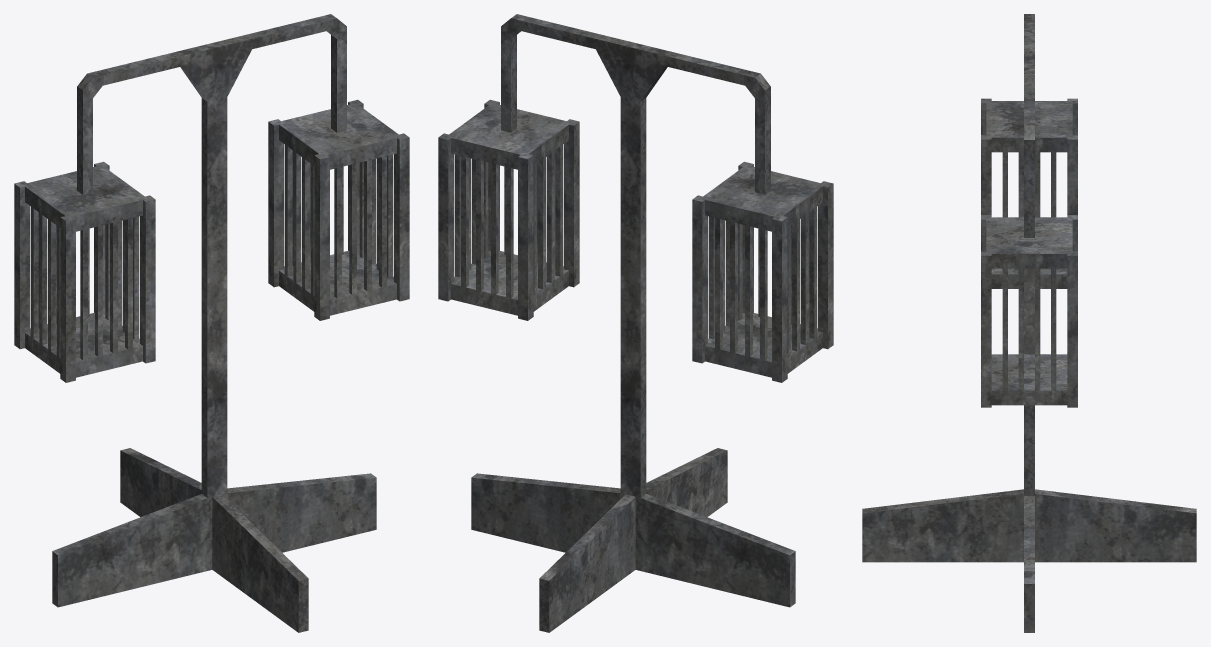
File: jail.gltf
3 views of the same model, side by side, from view 1: azimuth 30°, elevation 25°; view 2: azimuth 150°, elevation 25°; view 3: azimuth 270°, elevation 25° (orthographic). The views are drawn at different scales.
Visible parts, largest first — view 1: jail; view 2: jail; view 3: jail.
Boxes of the visible parts, x1,y1,x2,y2 form: jail: (14, 14, 409, 632); jail: (438, 14, 833, 632); jail: (862, 14, 1196, 632).
Bounding box in the file's own units: 8.62 × 12.5 × 7.75.
1 material, 1 textured.
